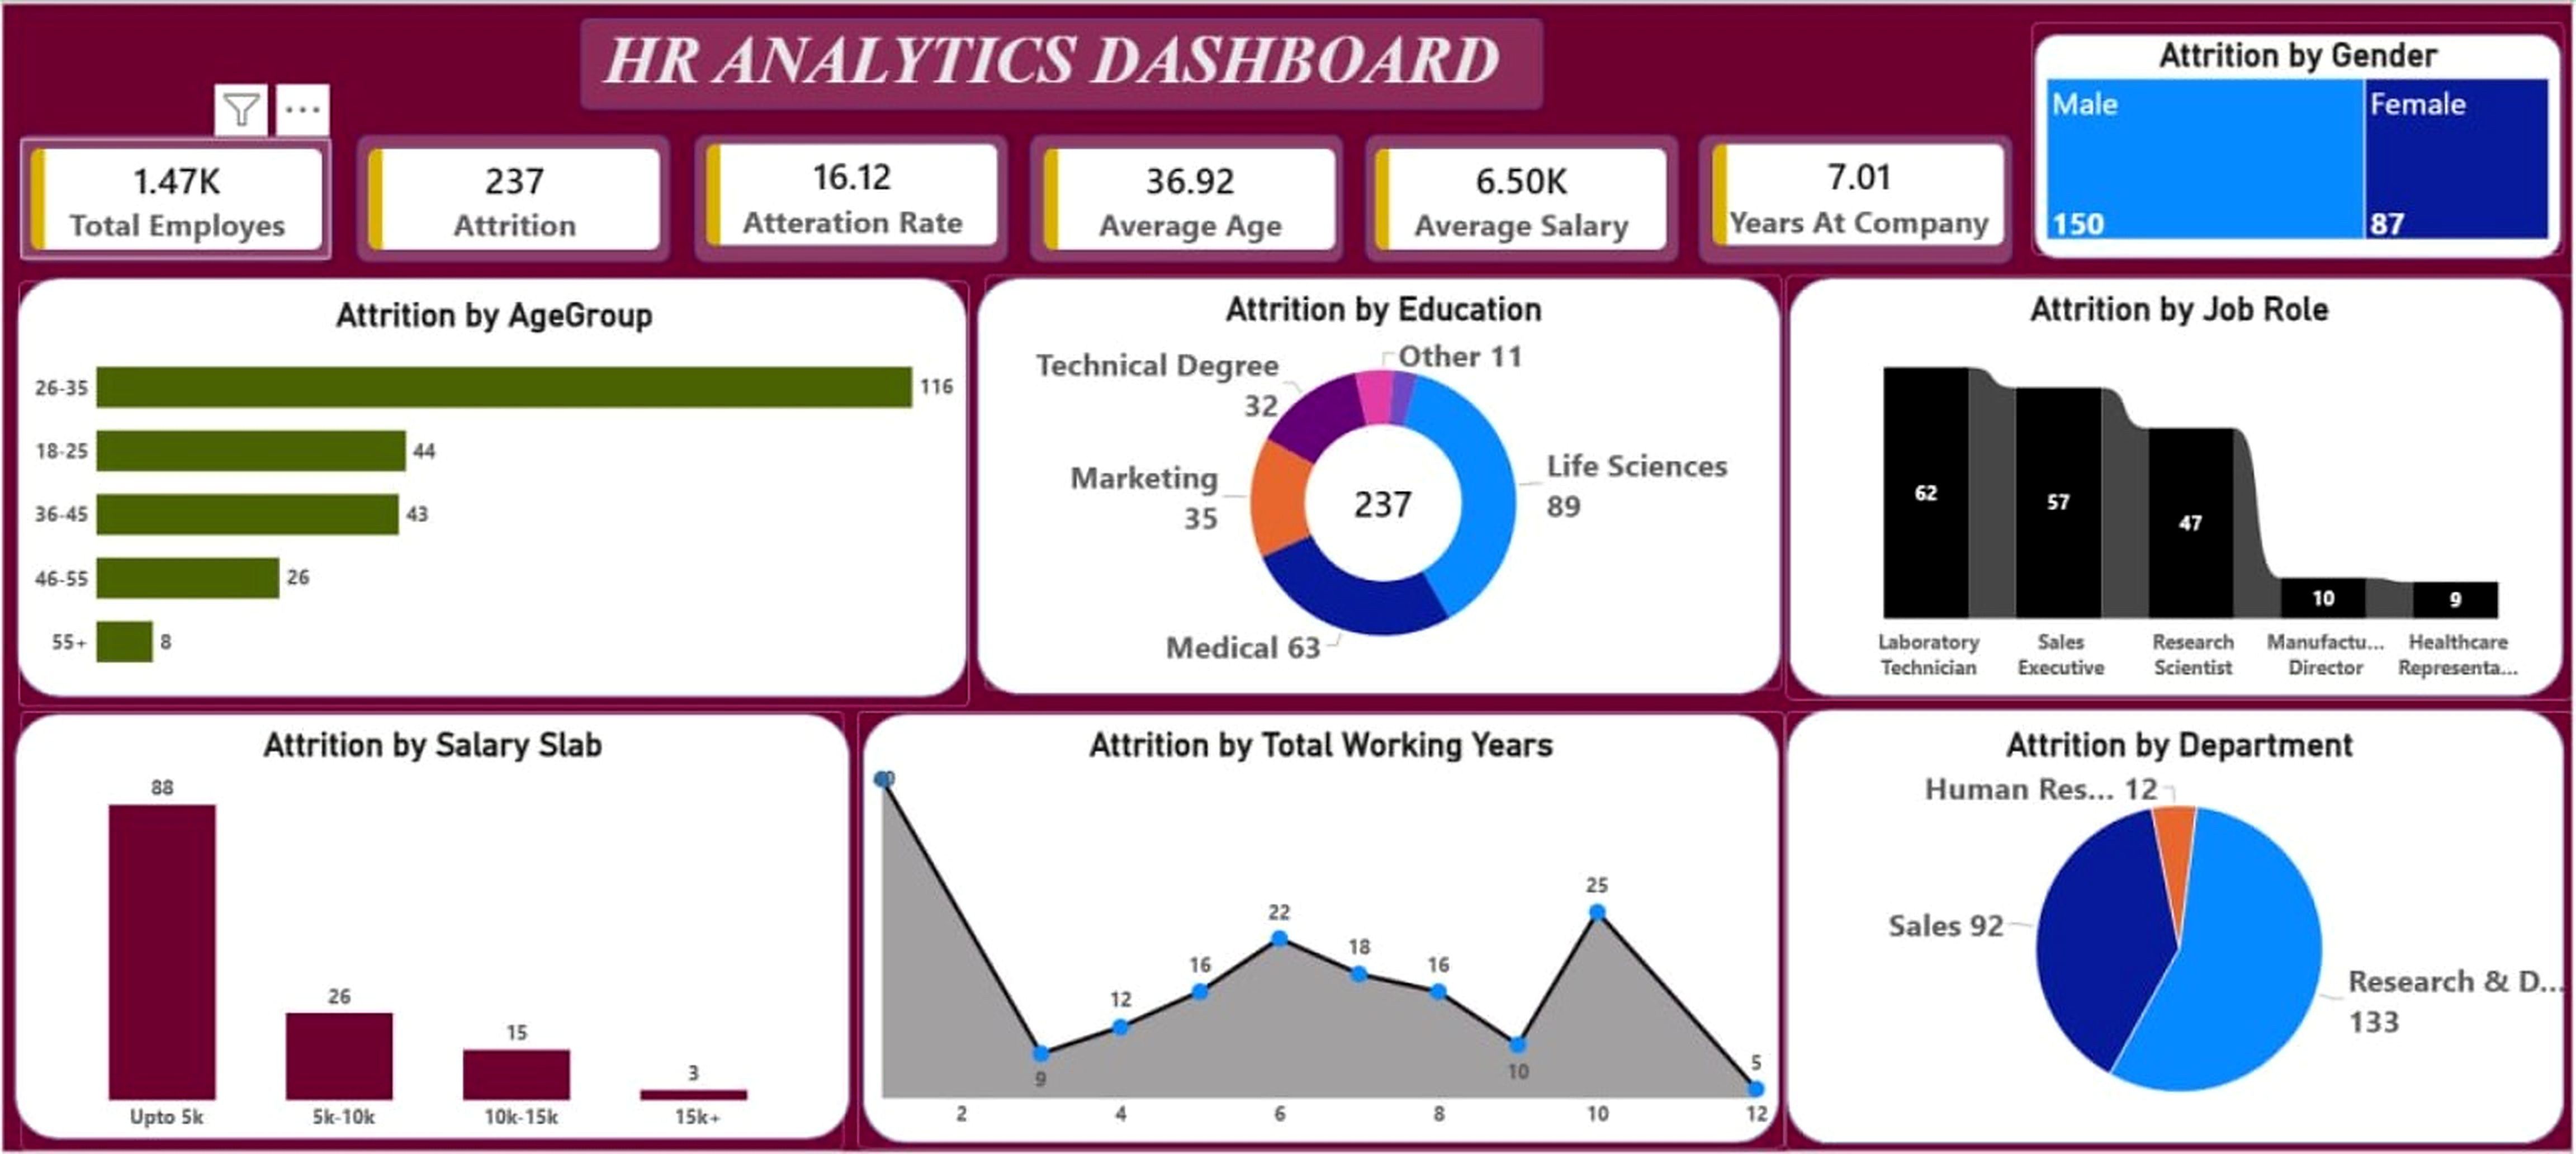

What the dashboard file says about the page in this screenshot:
{"tool":"powerbi","page":{"name":"Dashboard","canvas":[2800,1250],"ordinal":0},"visuals":[{"type":"shape","box":[628.3,14,1049.9,100],"z":0},{"type":"shape","box":[1058.3,296,882.4,460.7],"z":1000},{"type":"shape","box":[2210.8,29.2,580.1,251.1],"z":2000},{"type":"shape","box":[1942.6,294.9,850.7,463.1],"z":3000},{"type":"shape","box":[1840.1,134,357.4,156.4],"z":4000},{"type":"cardVisual","fields":{"Data":["Avg(HR_Analytics.YearsAtCompany)"]},"box":[1851.3,142.4,339,132],"z":5000},{"type":"shape","box":[9.8,135,357,155],"z":6000},{"type":"cardVisual","fields":{"Data":["CountNonNull(HR_Analytics.EmpID)"]},"box":[19.5,145.2,339,132],"z":7000},{"type":"shape","box":[377,134,357,155],"z":8000},{"type":"shape","box":[745.5,134,357,155],"z":9000},{"type":"shape","box":[1477.1,134,357,155],"z":10000},{"type":"shape","box":[1111.3,134,357,155],"z":11000},{"type":"cardVisual","fields":{"Data":["HR_Analytics.Total Attrition"]},"box":[388.1,145.2,339,132],"z":12000},{"type":"cardVisual","fields":{"Data":["Avg(HR_Analytics.Age)"]},"box":[1122.5,145.2,339,132],"z":13000},{"type":"cardVisual","fields":{"Data":["HR_Analytics.Atteration Rate"]},"box":[756.7,142.4,339,132],"z":14000},{"type":"cardVisual","fields":{"Data":["Avg(HR_Analytics.MonthlyIncome)"]},"box":[1485.5,145.2,339,132],"z":15000},{"type":"shape","box":[11.2,296,1041.5,463.5],"z":16000},{"type":"donutChart","title":"Attrition by Education","fields":{"Category":["HR_Analytics.EducationField"],"Y":["Sum(HR_Analytics.AttritionCount)"]},"box":[1069.5,296,868.4,452.4],"z":17000},{"type":"barChart","title":"Attrition by AgeGroup","fields":{"Category":["HR_Analytics.AgeGroup"],"Y":["Sum(HR_Analytics.AttritionCount)"]},"box":[16.8,301.6,1036,463.5],"z":18000},{"type":"shape","box":[10.4,771.1,916.3,470.3],"z":19000},{"type":"shape","box":[1939.9,764.2,854.1,480.6],"z":20000},{"type":"pieChart","title":"Attrition by Department","fields":{"Category":["HR_Analytics.Department"],"Y":["Sum(HR_Analytics.AttritionCount)"]},"box":[1942.6,770.2,858,480.2],"z":21000},{"type":"ribbonChart","title":"Attrition by Job Role","fields":{"Category":["HR_Analytics.JobRole"],"Y":["Sum(HR_Analytics.AttritionCount)"]},"box":[1942.6,294.9,858,463.1],"z":22000},{"type":"columnChart","title":"Attrition by Salary Slab","fields":{"Category":["HR_Analytics.SalarySlab"],"Y":["Sum(HR_Analytics.AttritionCount)"]},"box":[19.5,770.7,897,480.2],"z":23000},{"type":"shape","box":[932.6,770.7,1005.2,474.7],"z":24000},{"type":"areaChart","title":"Attrition by Total Working Years","fields":{"Category":["HR_Analytics.TotalWorkingYears"],"Y":["Sum(HR_Analytics.AttritionCount)"]},"box":[930.2,771.1,1009.7,477.2],"z":25000},{"type":"treemap","title":"Attrition by Gender","fields":{"Group":["HR_Analytics.Gender"],"Values":["Sum(HR_Analytics.AttritionCount)"]},"box":[2210.8,19.5,580.1,253.5],"z":26000},{"type":"textbox","box":[628.9,19.5,1050.5,95.1],"z":27000}]}

Visuals, with their boxes in screenshot pixels (x1, y1, x2, y2), scaled from the page's 2800x1250 canvas onto the 2576x1154 screenshot:
shape: detection(578, 13, 1544, 105)
shape: detection(974, 273, 1786, 698)
shape: detection(2034, 27, 2568, 259)
shape: detection(1787, 272, 2570, 700)
shape: detection(1693, 124, 2021, 268)
cardVisual - Avg(HR_Analytics.YearsAtCompany): detection(1703, 131, 2015, 253)
shape: detection(9, 125, 338, 268)
cardVisual - CountNonNull(HR_Analytics.EmpID): detection(18, 134, 330, 256)
shape: detection(347, 124, 675, 267)
shape: detection(686, 124, 1014, 267)
shape: detection(1359, 124, 1687, 267)
shape: detection(1022, 124, 1351, 267)
cardVisual - HR_Analytics.Total Attrition: detection(357, 134, 669, 256)
cardVisual - Avg(HR_Analytics.Age): detection(1033, 134, 1344, 256)
cardVisual - HR_Analytics.Atteration Rate: detection(696, 131, 1008, 253)
cardVisual - Avg(HR_Analytics.MonthlyIncome): detection(1367, 134, 1679, 256)
shape: detection(10, 273, 968, 701)
"Attrition by Education" donutChart: detection(984, 273, 1783, 691)
"Attrition by AgeGroup" barChart: detection(16, 278, 969, 706)
shape: detection(10, 712, 853, 1146)
shape: detection(1785, 706, 2570, 1149)
"Attrition by Department" pieChart: detection(1787, 711, 2575, 1153)
"Attrition by Job Role" ribbonChart: detection(1787, 272, 2575, 700)
"Attrition by Salary Slab" columnChart: detection(18, 712, 843, 1153)
shape: detection(858, 712, 1783, 1150)
"Attrition by Total Working Years" areaChart: detection(856, 712, 1785, 1152)
"Attrition by Gender" treemap: detection(2034, 18, 2568, 252)
textbox: detection(579, 18, 1545, 106)
